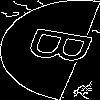B: (25, 25, 100, 69)
